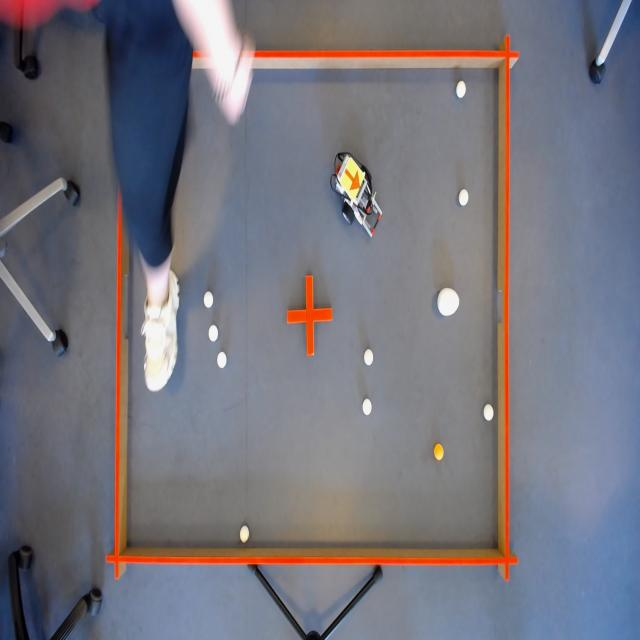cross: (285, 272, 334, 358)
egg: (435, 286, 462, 318)
orange_ball: (433, 439, 445, 463)
robot: (338, 156, 367, 206)
white_ball: (238, 522, 251, 548), (203, 287, 215, 313), (361, 395, 373, 419), (215, 350, 228, 372), (458, 186, 471, 208), (362, 347, 375, 369), (208, 319, 219, 344), (482, 401, 494, 423), (455, 78, 467, 100)
